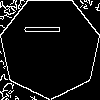I: (25, 22, 69, 36)
